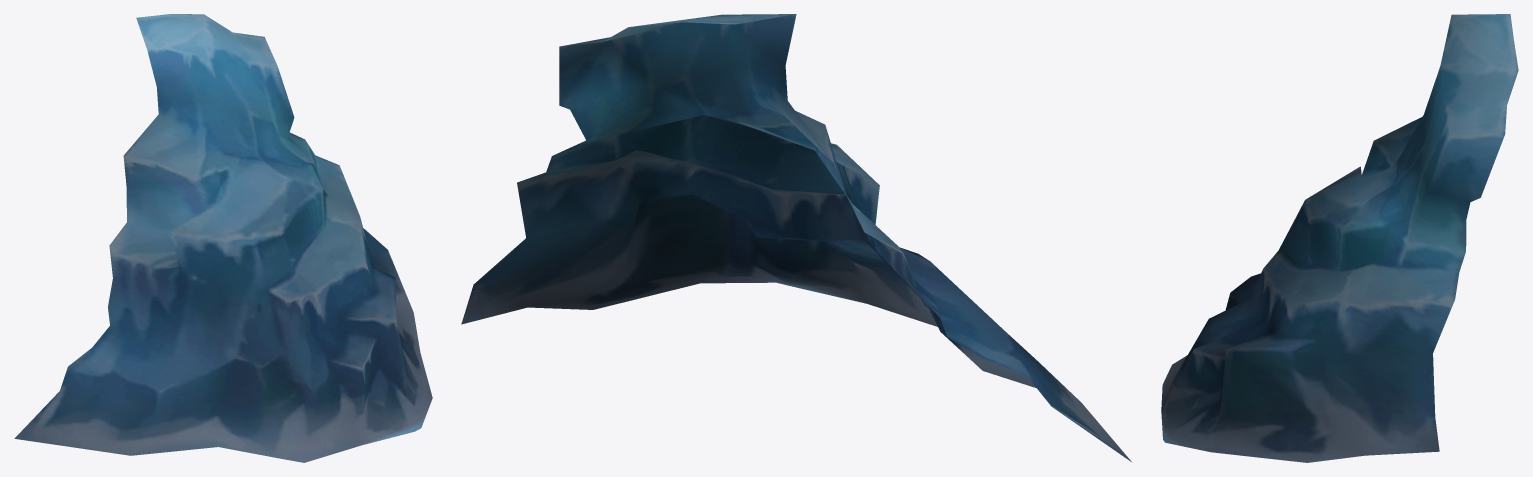
File: yw_bingyuan_bingshan_002.FBX
The picture shows the model from 3 angles, left to right: view 1: azimuth 30°, elevation 25°; view 2: azimuth 150°, elevation 25°; view 3: azimuth 270°, elevation 25°; orthographic projection. The views are drawn at different scales.
Parts seen in each view (by area): view 1: yw_bingyuan_bingshan_002; view 2: yw_bingyuan_bingshan_002; view 3: yw_bingyuan_bingshan_002.
Part boxes in pixels (x1=…): yw_bingyuan_bingshan_002: x1=14, y1=14, x2=432, y2=462; yw_bingyuan_bingshan_002: x1=461, y1=14, x2=1131, y2=461; yw_bingyuan_bingshan_002: x1=1161, y1=14, x2=1518, y2=462.
Bounding box in the file's own units: 549 × 411 × 364.
